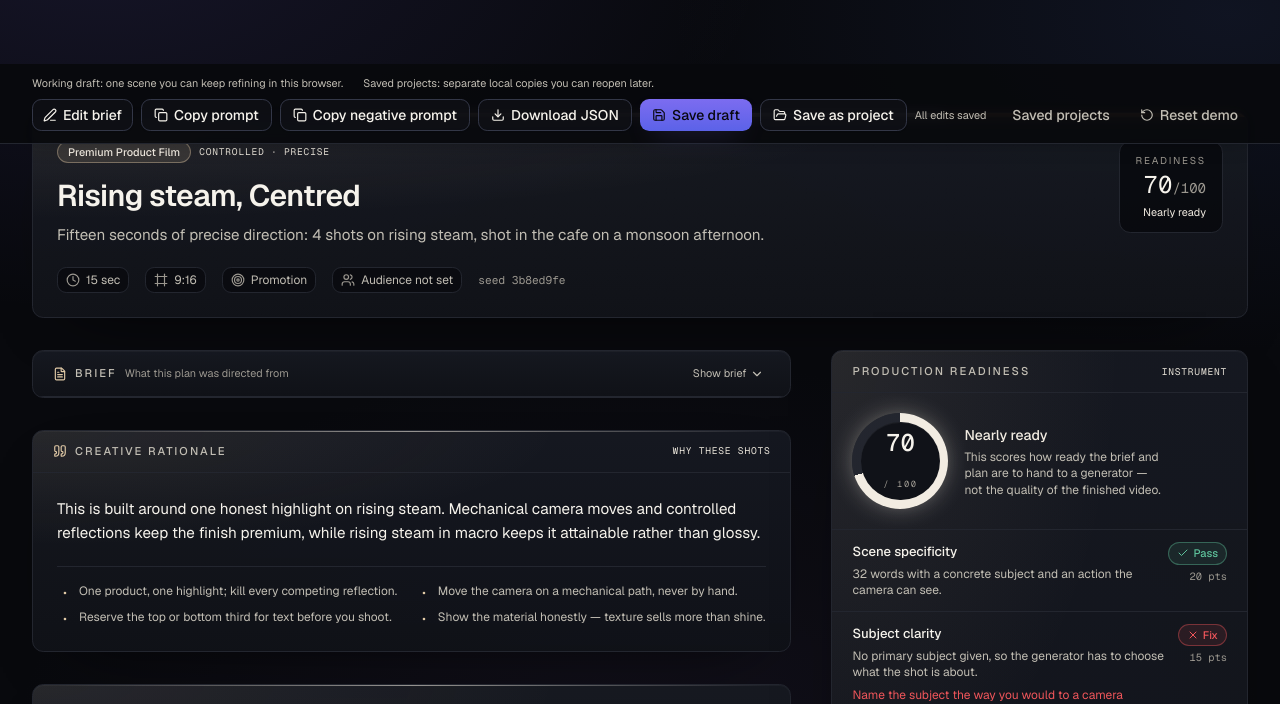
Test: BriefPanel › omits optional rows that were never filled in
Click the button "Show brief". click: (729, 374)
box: 687,364 -> 770,384
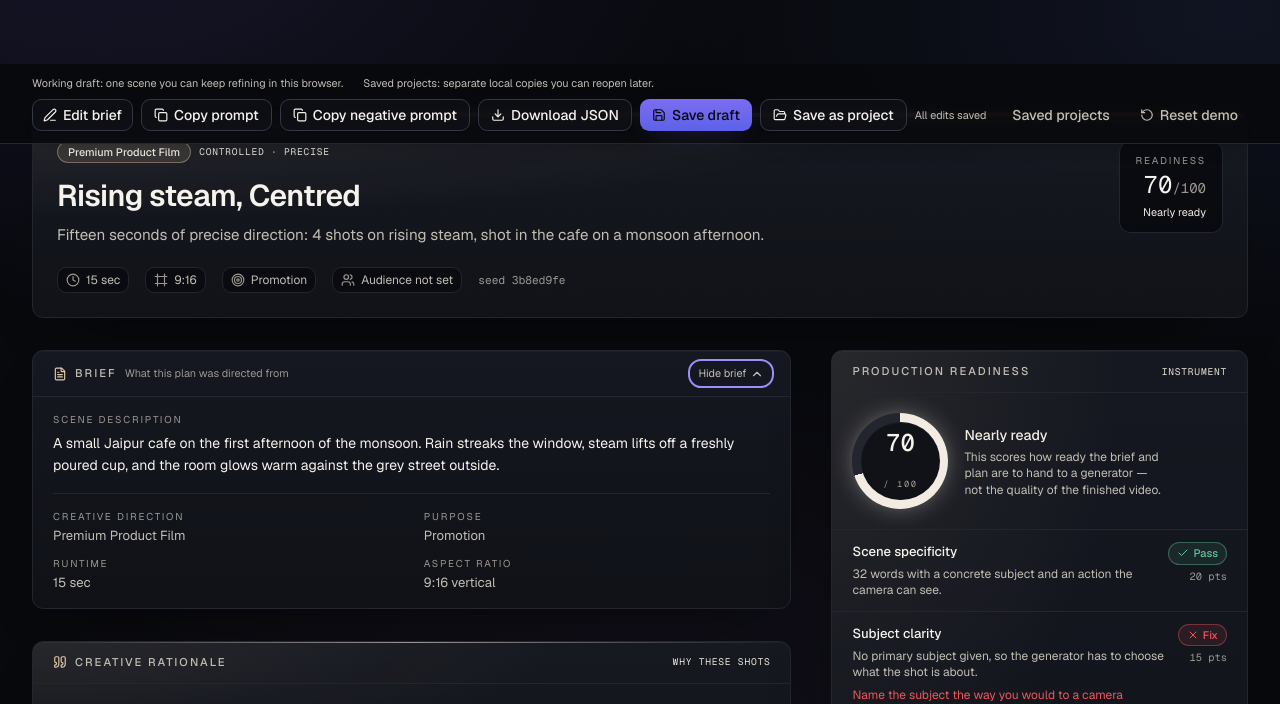
Now the text "A small Jaipur cafe on the first afternoon of the monsoon. Rain streaks the window, steam lifts off a freshly poured cup" is shown, box 53,434 -> 734,474
